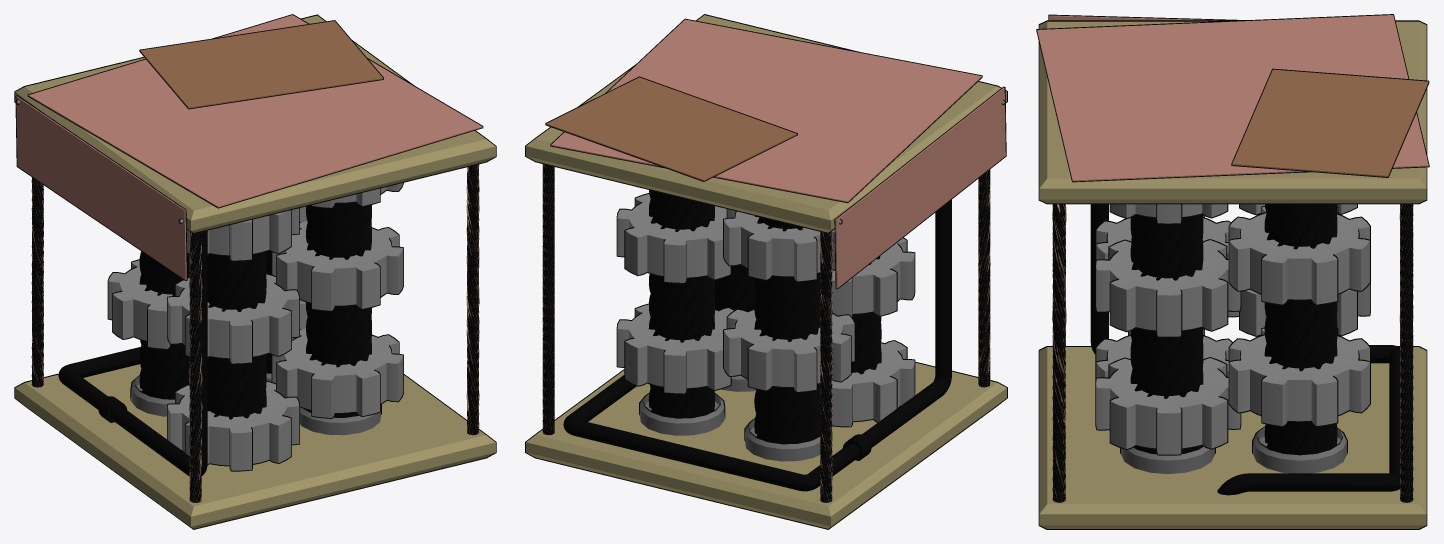
The model's file is Platform4.fbx.
The picture shows the model from 3 angles, left to right: view 1: azimuth 30°, elevation 25°; view 2: azimuth 150°, elevation 25°; view 3: azimuth 270°, elevation 25°; orthographic projection. The views are drawn at different scales.
Parts seen in each view (by area): view 1: Worm Gear.004; view 2: Worm Gear.004; view 3: Worm Gear.004.
Boxes of the visible parts, x1=… form: Worm Gear.004: x1=14, y1=14, x2=496, y2=529; Worm Gear.004: x1=525, y1=14, x2=1007, y2=529; Worm Gear.004: x1=1036, y1=14, x2=1429, y2=529.
Bounding box in the file's own units: 204 × 202 × 202.
